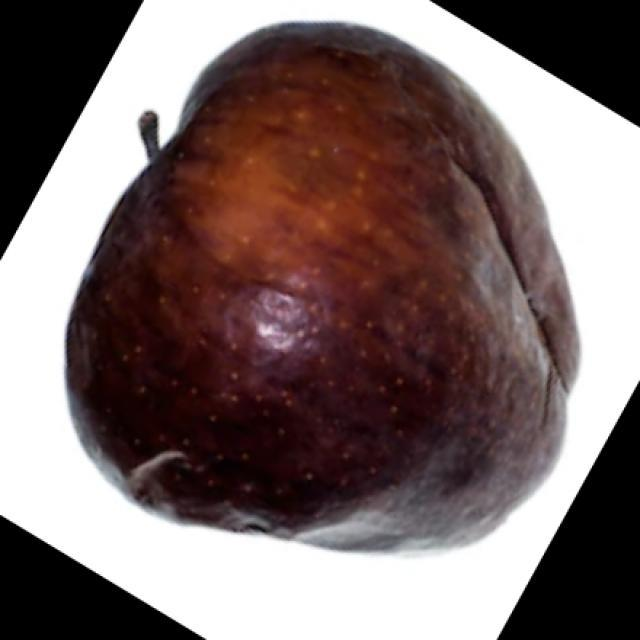Rotten: (67, 10, 588, 583)
